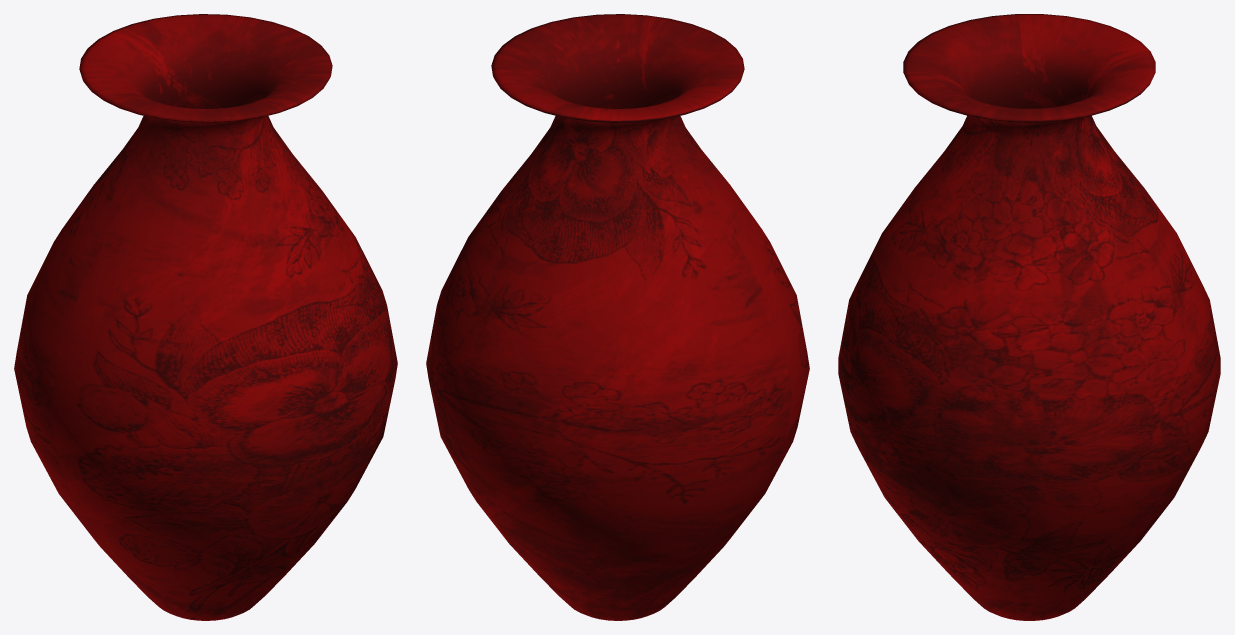
The model's file is vase.glb.
3 views of the same model, side by side, from view 1: azimuth 30°, elevation 25°; view 2: azimuth 150°, elevation 25°; view 3: azimuth 270°, elevation 25° (orthographic).
Parts seen in each view (by area): view 1: Cylinder.001; view 2: Cylinder.001; view 3: Cylinder.001.
Part boxes in pixels (left/top/right/bottom): Cylinder.001: left=14, top=14, right=397, bottom=620; Cylinder.001: left=426, top=14, right=809, bottom=620; Cylinder.001: left=838, top=14, right=1220, bottom=620.
Size of the model in its own units: 1.45 by 2.25 by 1.45.
1 material, 1 textured.
